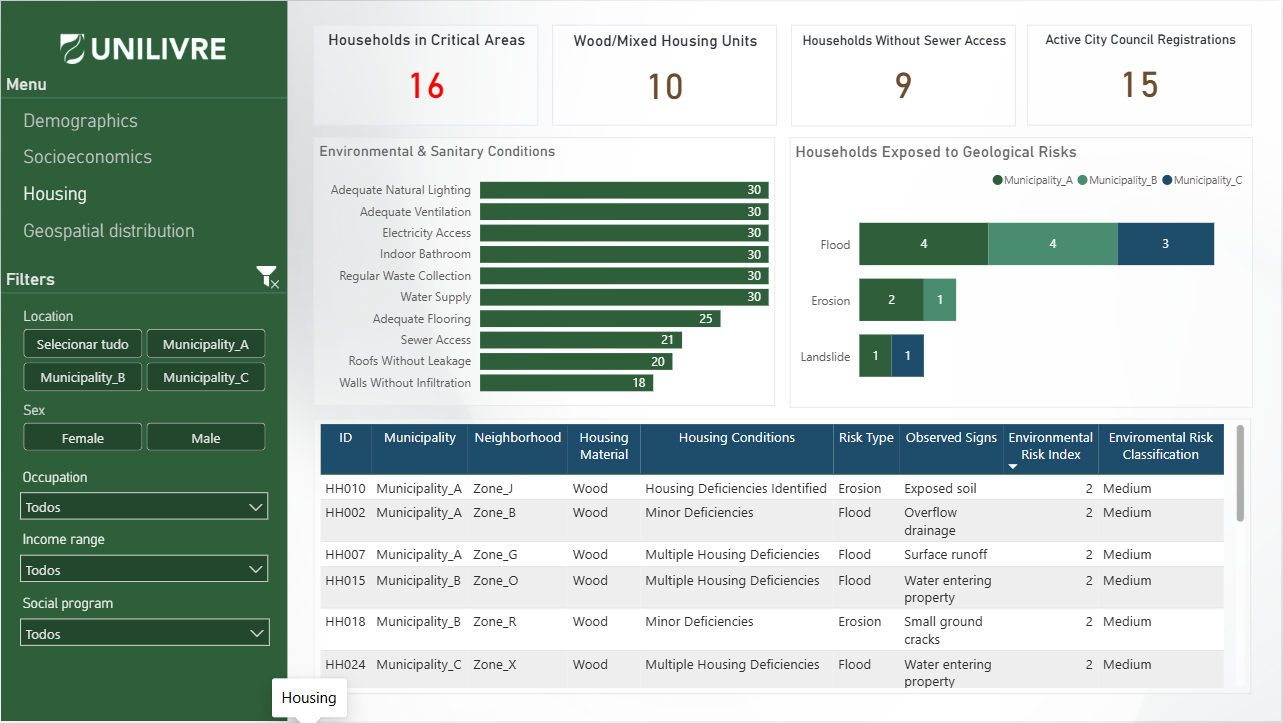

This screenshot's page, from the dashboard's own definition file:
{"tool":"powerbi","page":{"name":"Housing","canvas":[1280,720],"ordinal":2},"visuals":[{"type":"shape","box":[0,0,286.4,720.4],"z":0},{"type":"cardVisual","title":"Households in Critical Areas ","fields":{"Data":["Count(dim_demographics.id_household)"]},"box":[312.4,23.5,225.1,100.8],"z":1000},{"type":"cardVisual","title":"Wood/Mixed Housing Units","fields":{"Data":["Count(dim_demographics.id_household)"]},"box":[550.7,23.6,225,100.7],"z":2000},{"type":"cardVisual","title":"Active City Council Registrations","fields":{"Data":["Count(dim_demographics.id_household)"]},"box":[1026.4,23.5,225.1,100.8],"z":3000},{"type":"barChart","title":"Households Exposed to Geological Risks","fields":{"Y":["CountNonNull(dim_demographics.id_household)"],"Category":["dim_environmental_risks.risk_type"],"Series":["dim_demographics.municipality"]},"box":[788.7,135.9,463.1,270.3],"z":4000},{"type":"cardVisual","title":"Households Without Sewer Access ","fields":{"Data":["Count(dim_housing.id_household)"]},"box":[789.5,23.7,225,101.3],"z":5000},{"type":"barChart","title":"Environmental & Sanitary Conditions","fields":{"Y":["Sum(housing_frequency.household_count)"],"Category":["housing_frequency.condition_label"]},"box":[313,135.9,461.5,268.7],"z":6000},{"type":"tableEx","title":"Faixa de renda em salários-mínimos","fields":{"Values":["dim_demographics.id_household","dim_location.municipality","dim_demographics.neighborhood","dim_demographics.housing_material","dim_demographics.housing_conditions_summary","dim_environmental_risks.risk_type","dim_environmental_risks.observed_signs","fact_households.environmental_risk_index","fact_households.environmental_risk_classification"]},"box":[313,417.3,937.3,275],"z":16000},{"type":"image","box":[39.2,0,207.9,87.4],"z":16001},{"type":"slicer","fields":{"Values":["dim_demographics.occupation"]},"box":[8.6,461.9,268.6,71.4],"z":16002},{"type":"slicer","fields":{"Values":["dim_demographics.family_income_range"]},"box":[8.6,524.8,268.6,71.4],"z":16003},{"type":"slicer","fields":{"Values":["dim_social.program_name"]},"box":[8.6,589.1,270,72.9],"z":16004},{"type":"textbox","title":"Filters","box":[0,267.2,285.7,52.9],"z":16005},{"type":"textbox","title":"Menu","box":[0,72.3,286.2,52.7],"z":16006},{"type":"image","box":[250,265,34.2,22.4],"z":16007},{"type":"advancedSlicerVisual","title":"Sex","fields":{"Values":["households_sample.sex"]},"box":[17.1,400.6,252.6,55.3],"z":16008},{"type":"advancedSlicerVisual","title":"Location","fields":{"Values":["dim_demographics.municipality"]},"box":[17.1,305.8,252.6,89.5],"z":16009},{"type":"pageNavigator","title":"NAVEGAÇÃO","box":[12.1,99.5,259.4,149.3],"z":16010}]}

Visuals, with their boxes in screenshot pixels (x1, y1, x2, y2), scaled from the page's 1280x720 canvas onto the 1283x723 screenshot:
shape: pyautogui.locateOnScreen(0, 0, 287, 722)
"Households in Critical Areas " cardVisual: pyautogui.locateOnScreen(313, 24, 539, 125)
"Wood/Mixed Housing Units" cardVisual: pyautogui.locateOnScreen(552, 24, 778, 125)
"Active City Council Registrations" cardVisual: pyautogui.locateOnScreen(1029, 24, 1254, 125)
"Households Exposed to Geological Risks" barChart: pyautogui.locateOnScreen(791, 136, 1255, 408)
"Households Without Sewer Access " cardVisual: pyautogui.locateOnScreen(791, 24, 1017, 126)
"Environmental & Sanitary Conditions" barChart: pyautogui.locateOnScreen(314, 136, 776, 406)
"Faixa de renda em salários-mínimos" tableEx: pyautogui.locateOnScreen(314, 419, 1253, 695)
image: pyautogui.locateOnScreen(39, 0, 248, 88)
slicer - dim_demographics.occupation: pyautogui.locateOnScreen(9, 464, 278, 536)
slicer - dim_demographics.family_income_range: pyautogui.locateOnScreen(9, 527, 278, 599)
slicer - dim_social.program_name: pyautogui.locateOnScreen(9, 592, 279, 665)
"Filters" textbox: pyautogui.locateOnScreen(0, 268, 286, 321)
"Menu" textbox: pyautogui.locateOnScreen(0, 73, 287, 126)
image: pyautogui.locateOnScreen(251, 266, 285, 289)
"Sex" advancedSlicerVisual: pyautogui.locateOnScreen(17, 402, 270, 458)
"Location" advancedSlicerVisual: pyautogui.locateOnScreen(17, 307, 270, 397)
"NAVEGAÇÃO" pageNavigator: pyautogui.locateOnScreen(12, 100, 272, 250)
